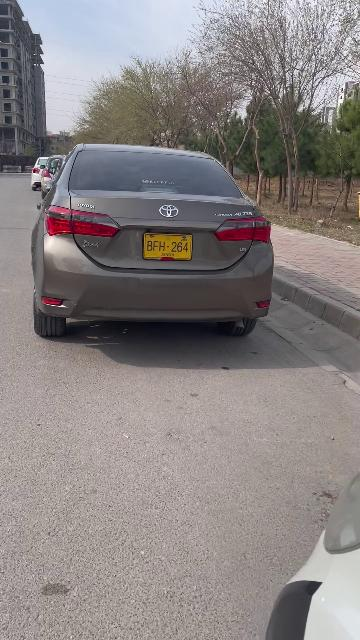plate: (141, 230, 196, 263)
